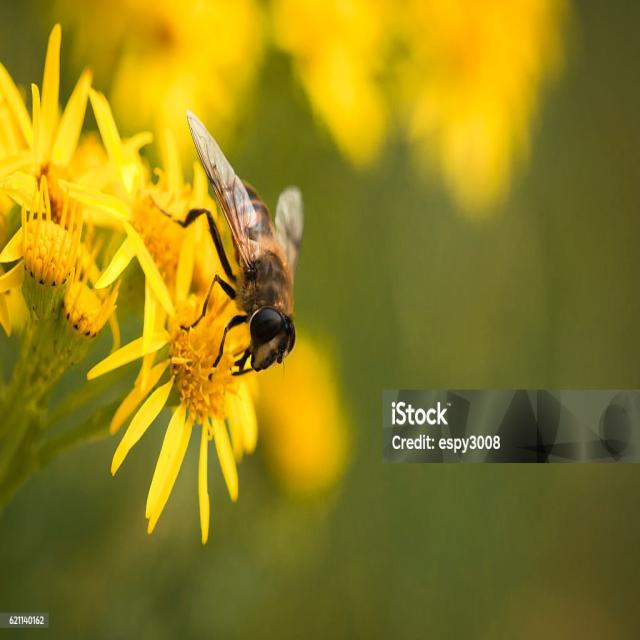hoverfly: (152, 104, 307, 389)
